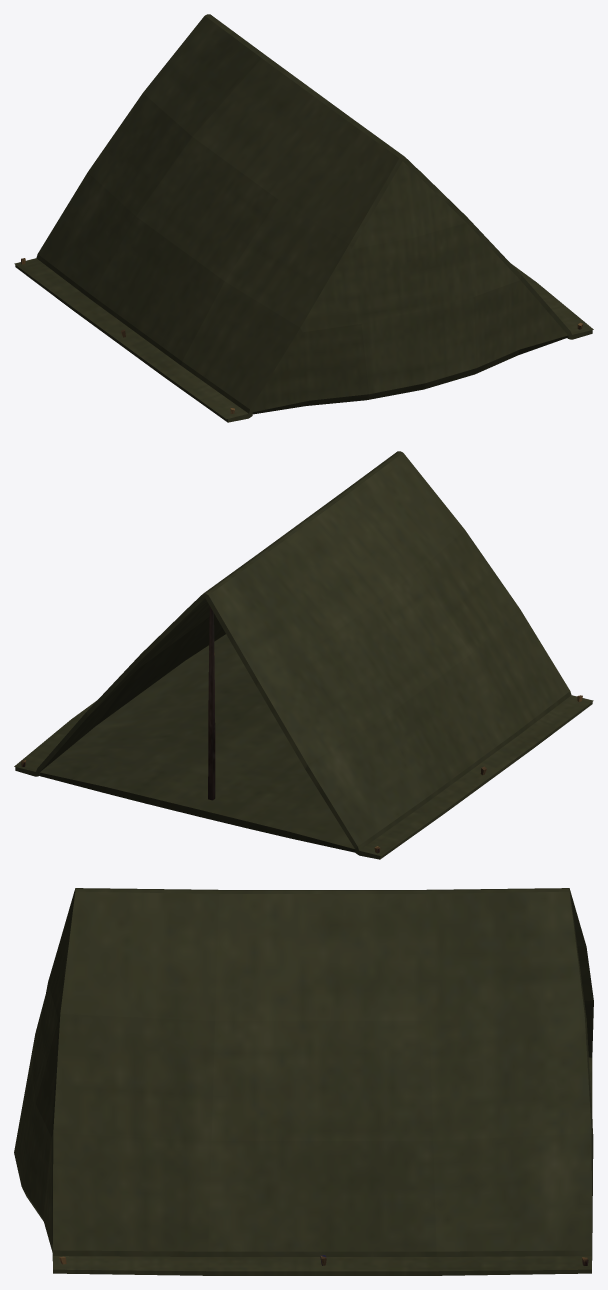
The model's file is tentOpen_Green.fbx.
The picture shows the model from 3 angles, top to bottom: view 1: azimuth 30°, elevation 25°; view 2: azimuth 150°, elevation 25°; view 3: azimuth 270°, elevation 25°; orthographic projection. The views are drawn at different scales.
Parts seen in each view (by area): view 1: TentOpen_Green; view 2: TentOpen_Green; view 3: TentOpen_Green.
Part boxes in pixels (<box>): TentOpen_Green: <box>14,14,593,422</box>; TentOpen_Green: <box>14,451,593,859</box>; TentOpen_Green: <box>14,888,593,1275</box>.
Bounding box in the file's own units: 6.49 × 6.85 × 3.6.
Materials: 2 (2 with a texture image).
